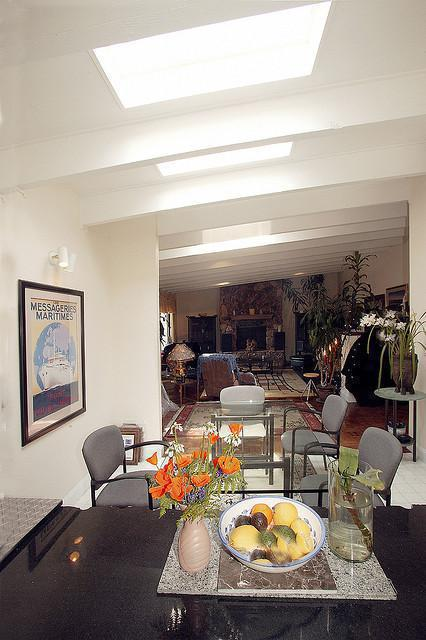Matera: (293, 248, 371, 412), (151, 434, 240, 577), (369, 299, 424, 395)
